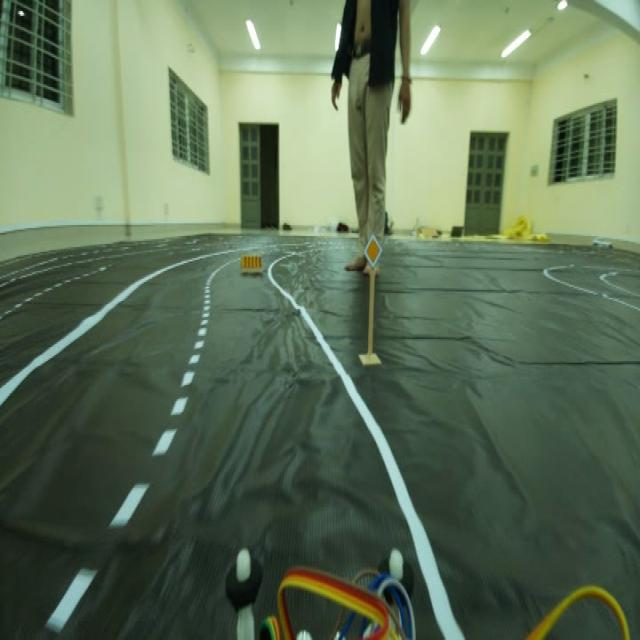priority: (362, 230, 384, 272)
